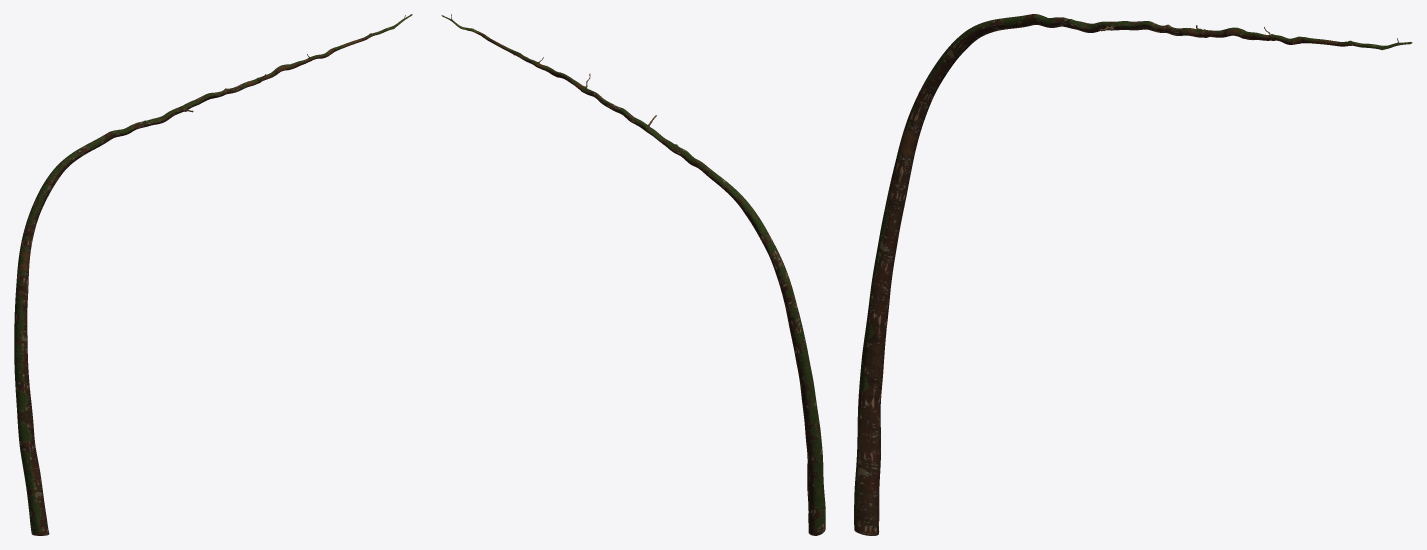
The model's file is perch.glb.
3 views of the same model, side by side, from view 1: azimuth 30°, elevation 25°; view 2: azimuth 150°, elevation 25°; view 3: azimuth 330°, elevation 25° (orthographic). The views are drawn at different scales.
Parts seen in each view (by area): view 1: perch; view 2: perch; view 3: perch.
Boxes of the visible parts, left/top/right/bottom form: perch: left=14, top=14, right=412, bottom=535; perch: left=441, top=15, right=825, bottom=535; perch: left=854, top=14, right=1412, bottom=535.
Size of what is drawn, in the model's own units: 10.63 by 11.32 by 1.6.
2 materials, 2 textured.
